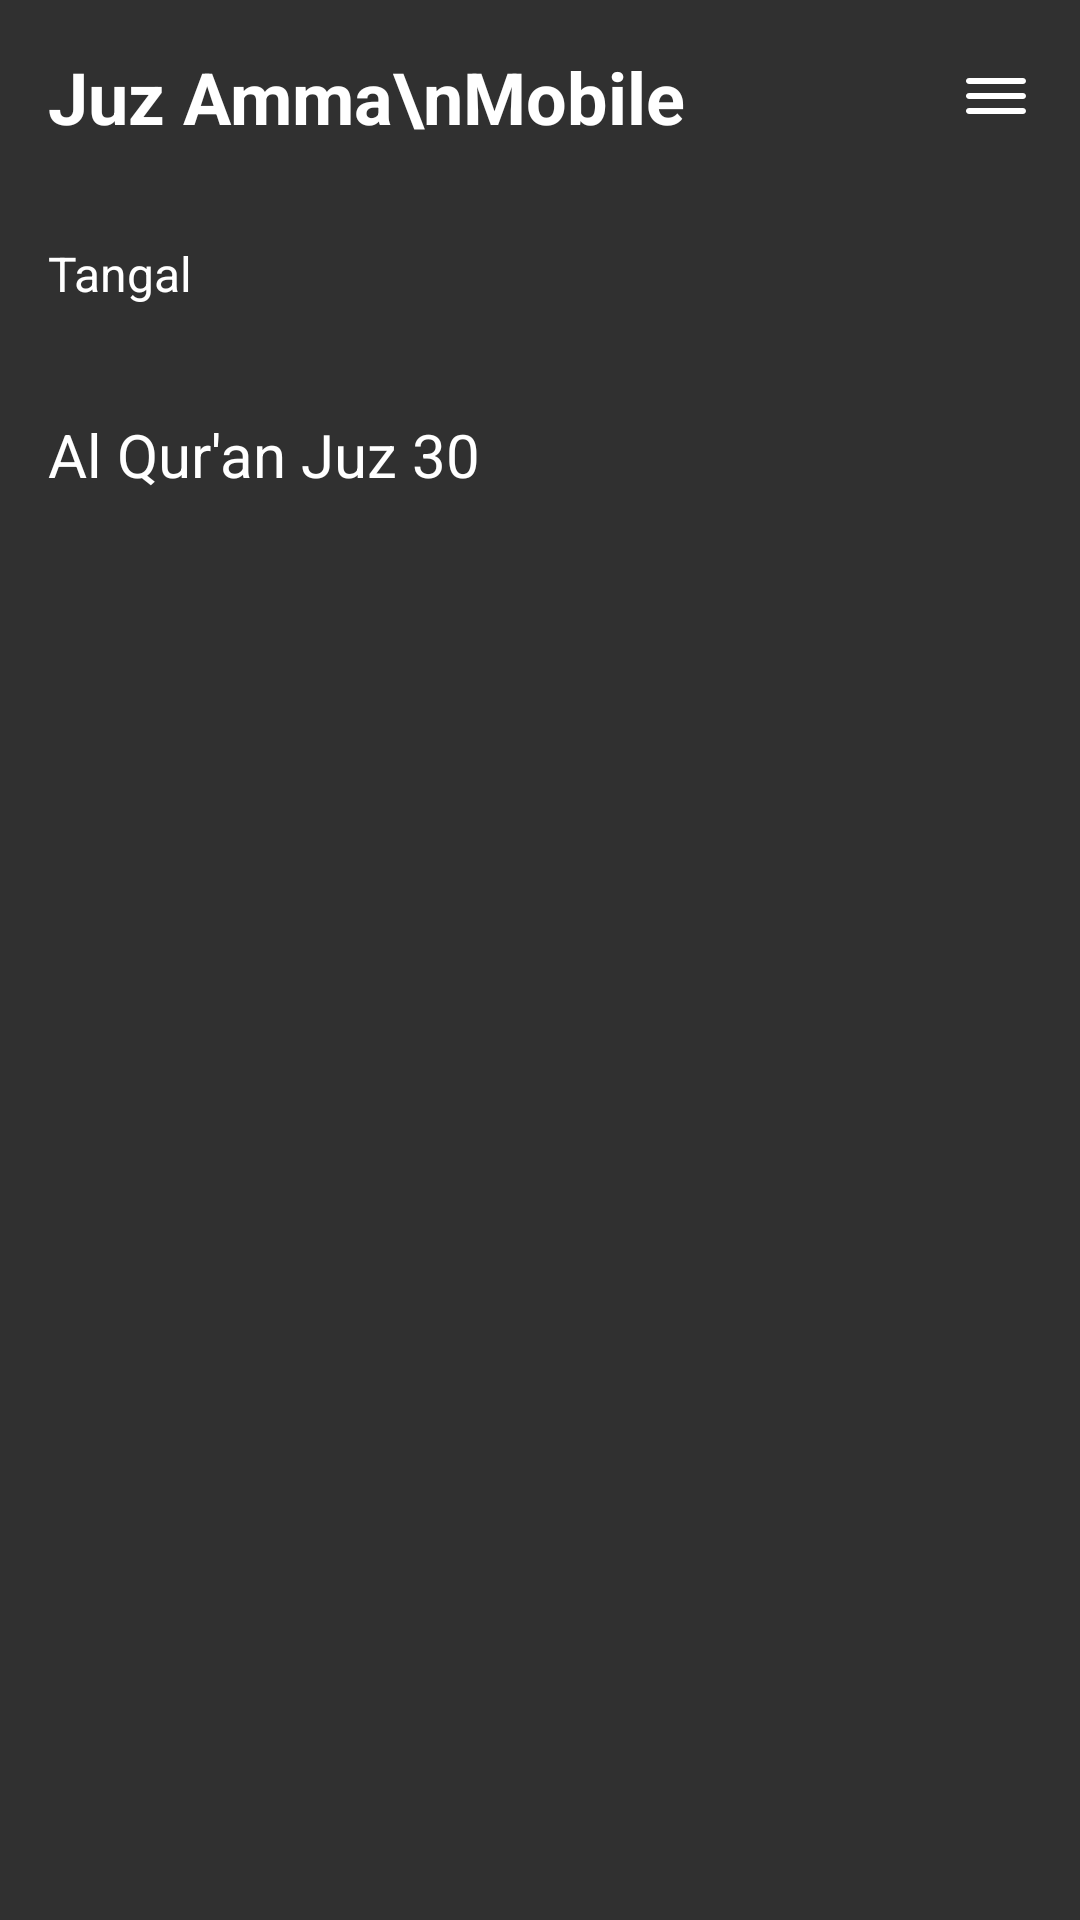

Icon click points for this 1080 × 1920 phone screenshot, format point (x, y):
Menu: point (996, 96)
